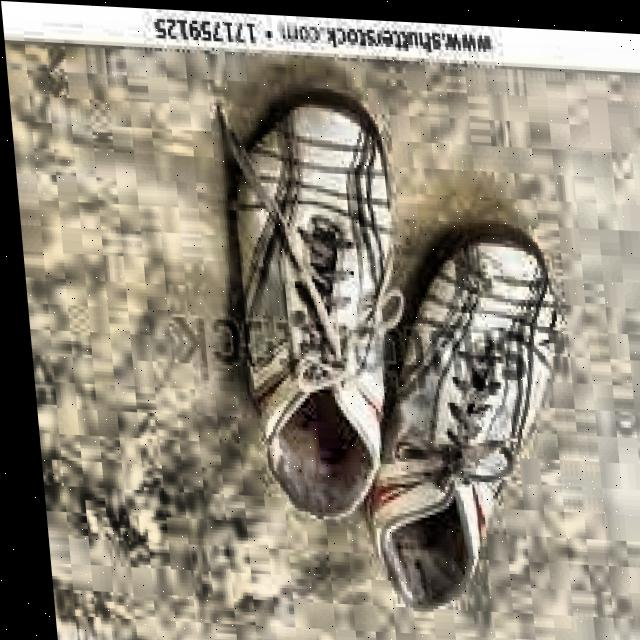shoes: (167, 60, 597, 624)
